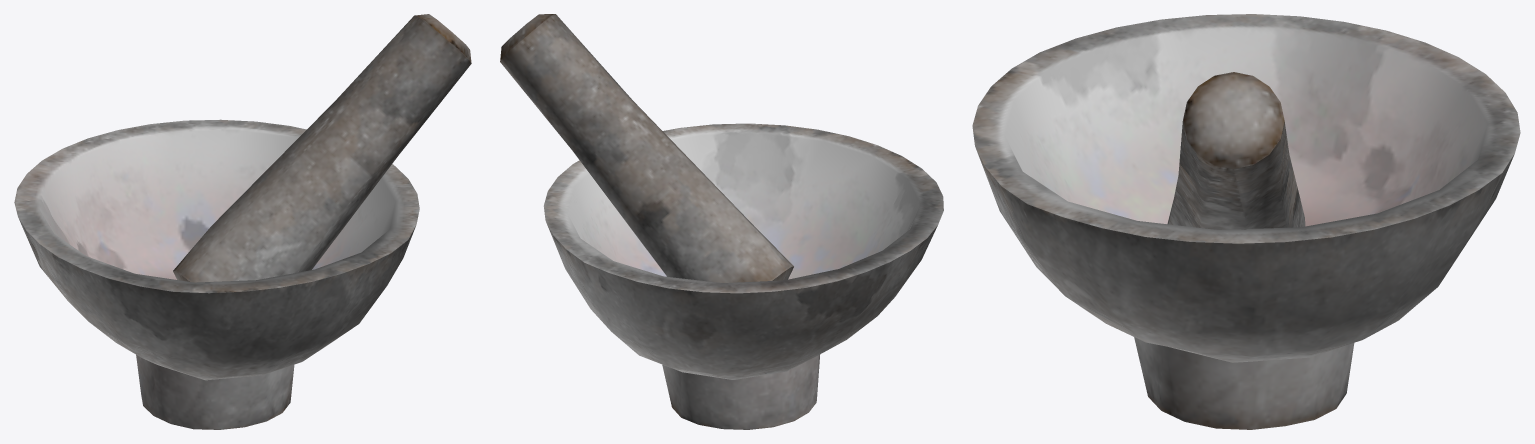
The model's file is SM_Potion_Props_Mortar_01_A.fbx.
The picture shows the model from 3 angles, left to right: view 1: azimuth 30°, elevation 25°; view 2: azimuth 150°, elevation 25°; view 3: azimuth 270°, elevation 25°; orthographic projection. The views are drawn at different scales.
Parts seen in each view (by area): view 1: SM_Potion_Props_Mortar_01_A_LOD0; view 2: SM_Potion_Props_Mortar_01_A_LOD0; view 3: SM_Potion_Props_Mortar_01_A_LOD0.
Boxes of the visible parts, <box> form: SM_Potion_Props_Mortar_01_A_LOD0: <box>14,14,471,429</box>; SM_Potion_Props_Mortar_01_A_LOD0: <box>500,14,943,429</box>; SM_Potion_Props_Mortar_01_A_LOD0: <box>972,14,1520,429</box>.
Size of what is drawn, in the model's own units: 19 by 14.59 by 16.12.
